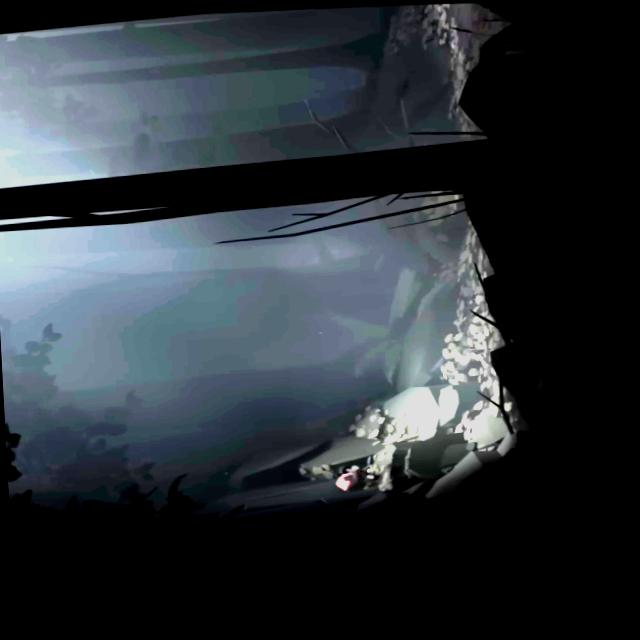boy: (334, 462, 382, 492)
